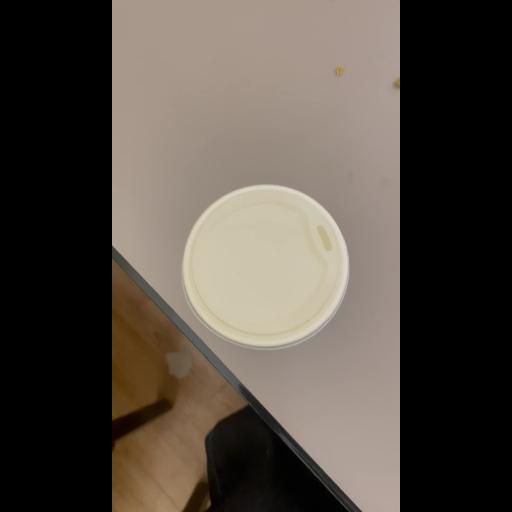lp_cup_lids: (176, 180, 350, 350)
